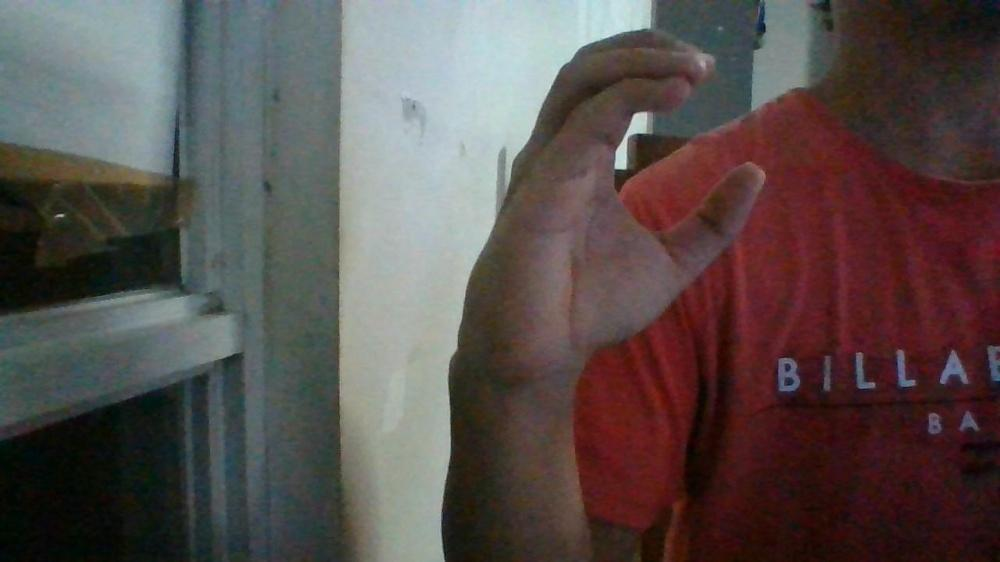c: (452, 27, 767, 359)
